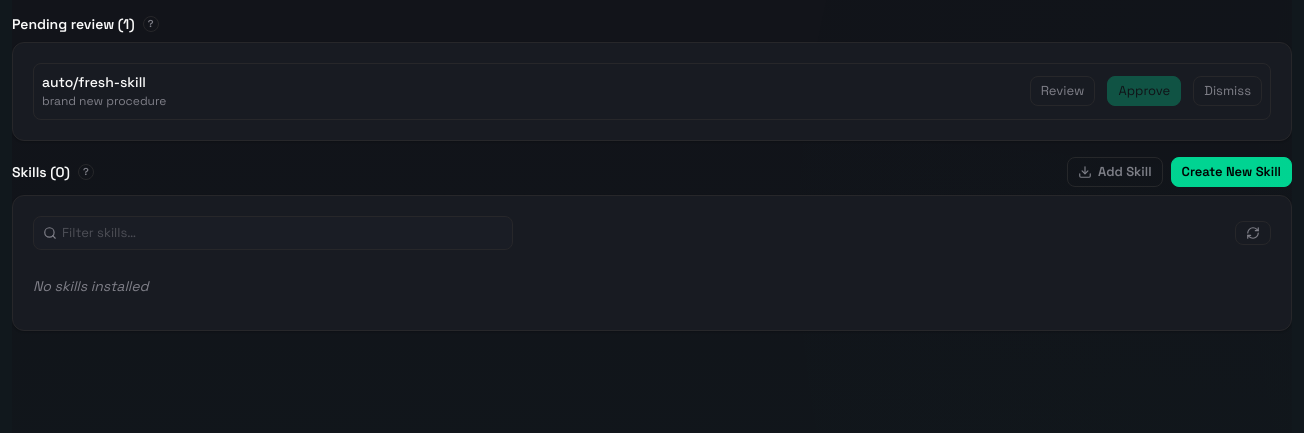
it: SkillsTab pending updates › still renders a plain new candidate as raw SKILL.md, with no badge
The width and height of the screenshot is (1304, 433).
What coordinates should you click on to do the following:
click the button "Review"
I would click on:
 (1062, 91)
Its box is [1030, 76, 1095, 106].
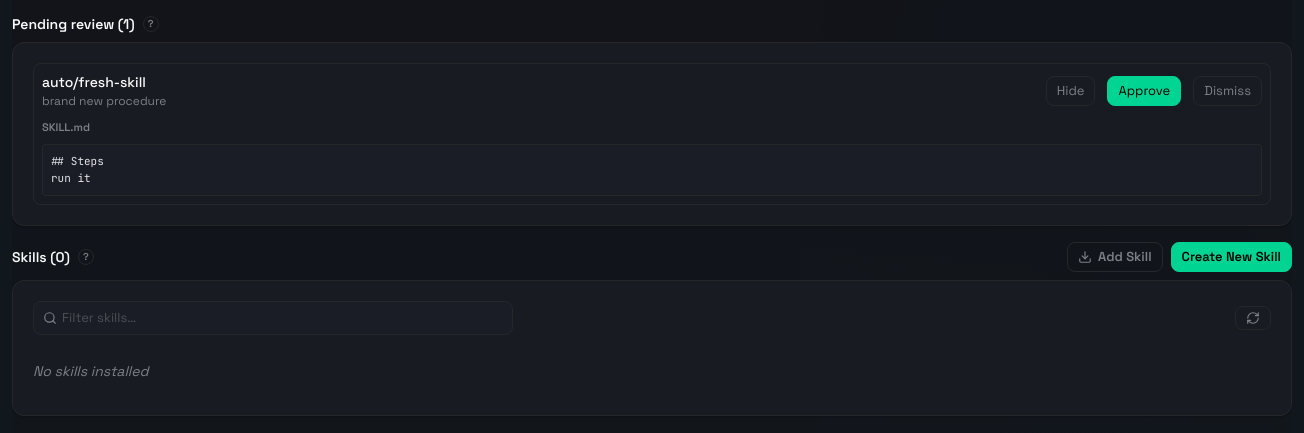
Now the text "## Steps run it" is shown, box [42, 144, 1262, 196]
